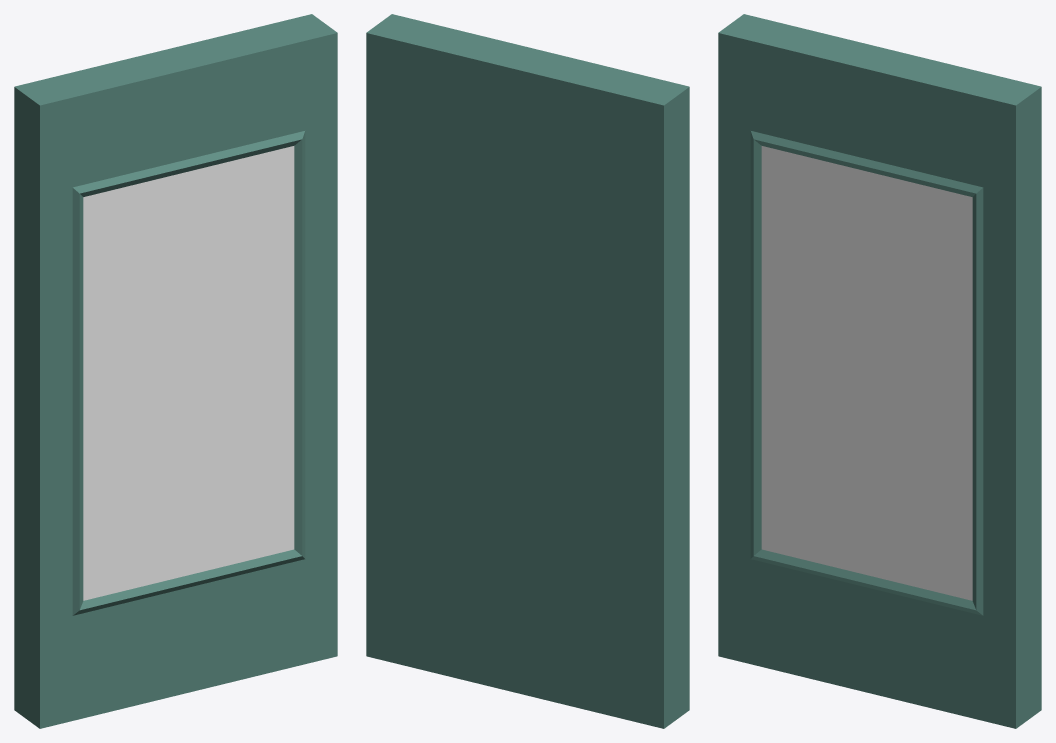
The model's file is GreyGreenGalleryInfo.glb.
3 views of the same model, side by side, from view 1: azimuth 30°, elevation 25°; view 2: azimuth 150°, elevation 25°; view 3: azimuth 330°, elevation 25° (orthographic).
Parts seen in each view (by area): view 1: galleryInfo_greyGreen; view 2: galleryInfo_greyGreen; view 3: galleryInfo_greyGreen.
Boxes of the visible parts, x1,y1,x2,y2 form: galleryInfo_greyGreen: (14,14,337,728); galleryInfo_greyGreen: (366,14,689,728); galleryInfo_greyGreen: (718,14,1041,728).
Size of what is drawn, in the model's own units: 2 by 4 by 0.3245.
1 material, 1 textured.
